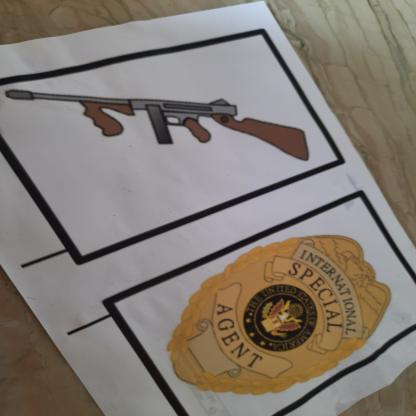Bootlegger: (1, 87, 315, 186)
G-man: (168, 228, 398, 401)
